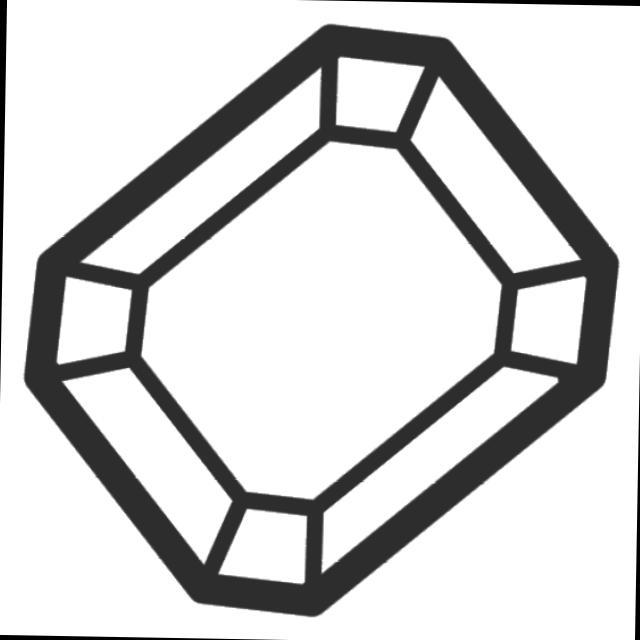emerald: (10, 10, 639, 631)
